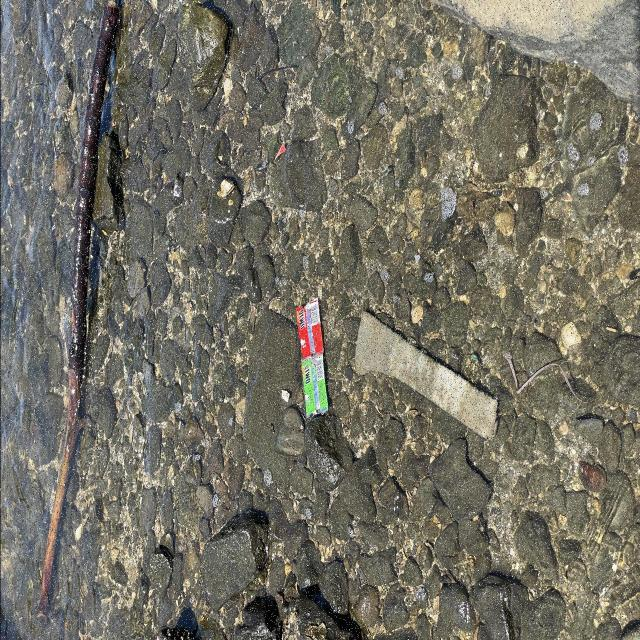plastic_waste: (296, 298, 330, 419)
